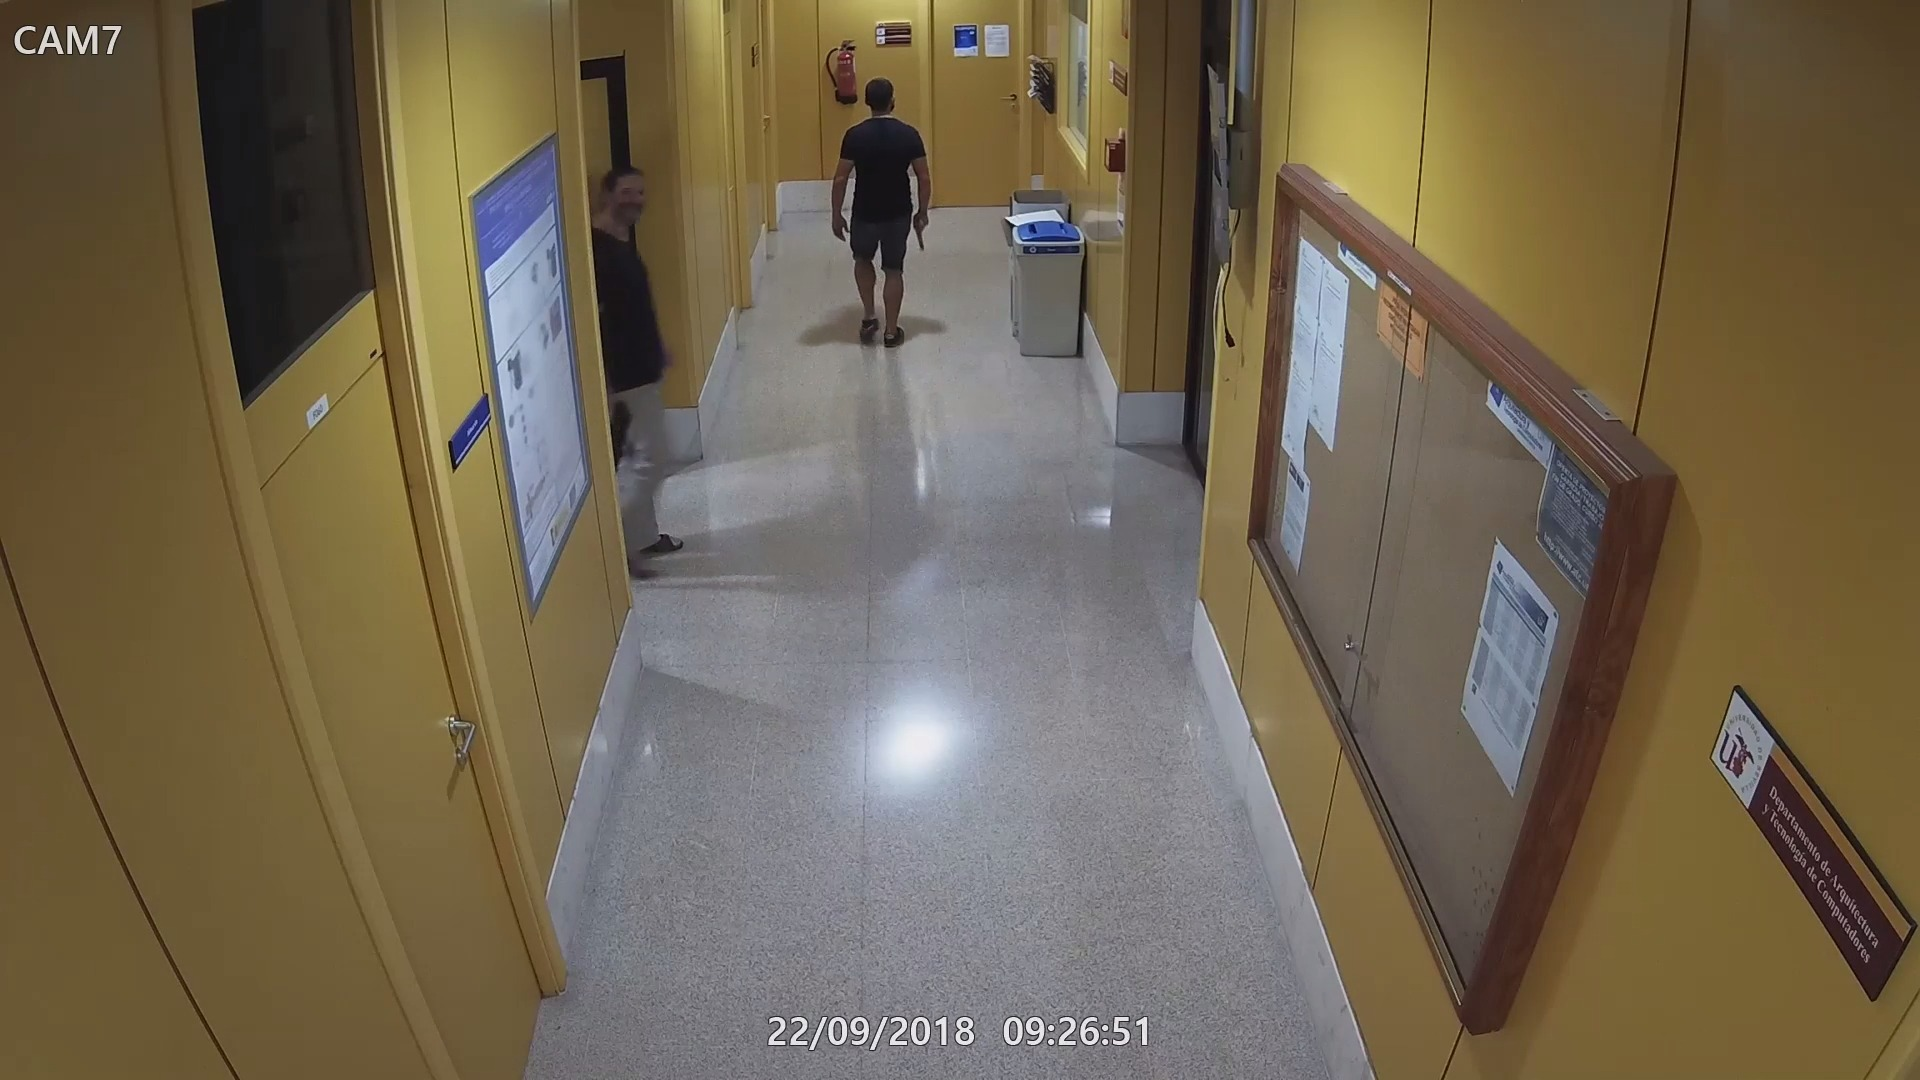Handgun: (907, 207, 934, 252)
Short_rifle: (608, 386, 636, 475)
